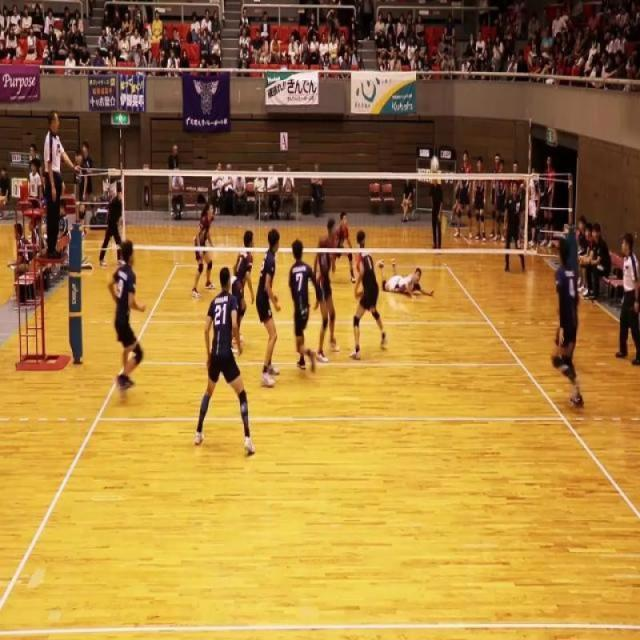volleyball: (430, 156, 440, 172)
